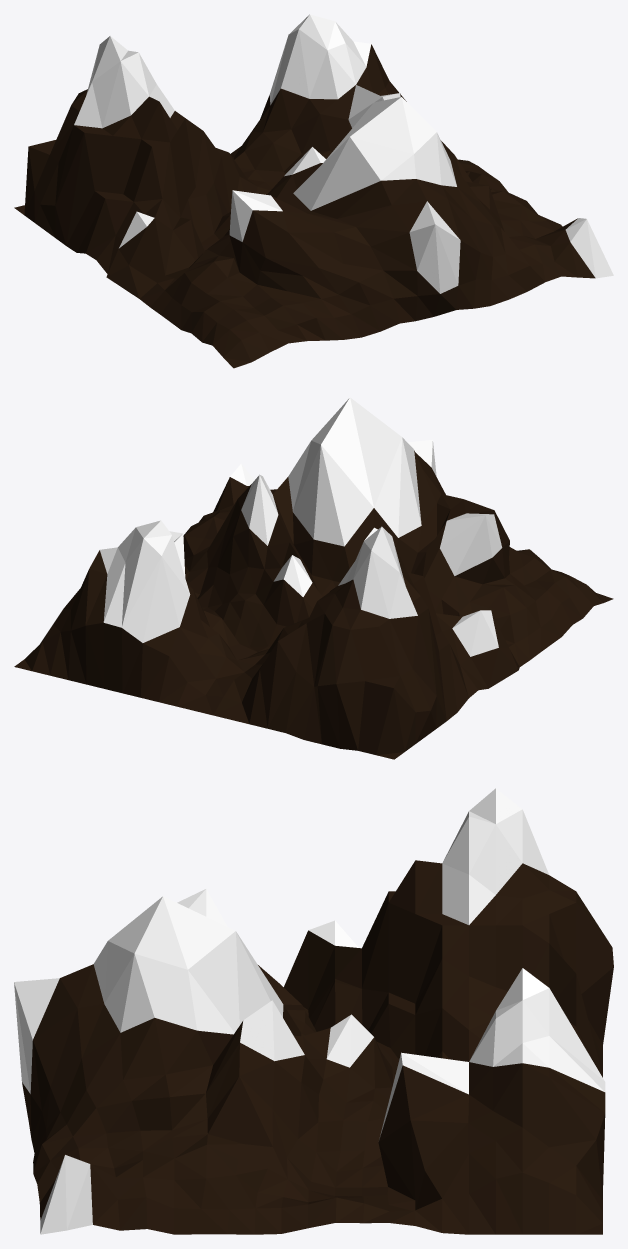
The model's file is Гора2.FBX.
The picture shows the model from 3 angles, top to bottom: view 1: azimuth 30°, elevation 25°; view 2: azimuth 150°, elevation 25°; view 3: azimuth 270°, elevation 25°; orthographic projection. The views are drawn at different scales.
Visible parts, largest first — view 1: Плоскость; view 2: Плоскость; view 3: Плоскость.
Part boxes in pixels (x1,y1,x2,y2): Плоскость: [14, 14, 613, 368]; Плоскость: [14, 397, 613, 759]; Плоскость: [14, 788, 613, 1234].
Bounding box in the file's own units: 642 × 296 × 655.
